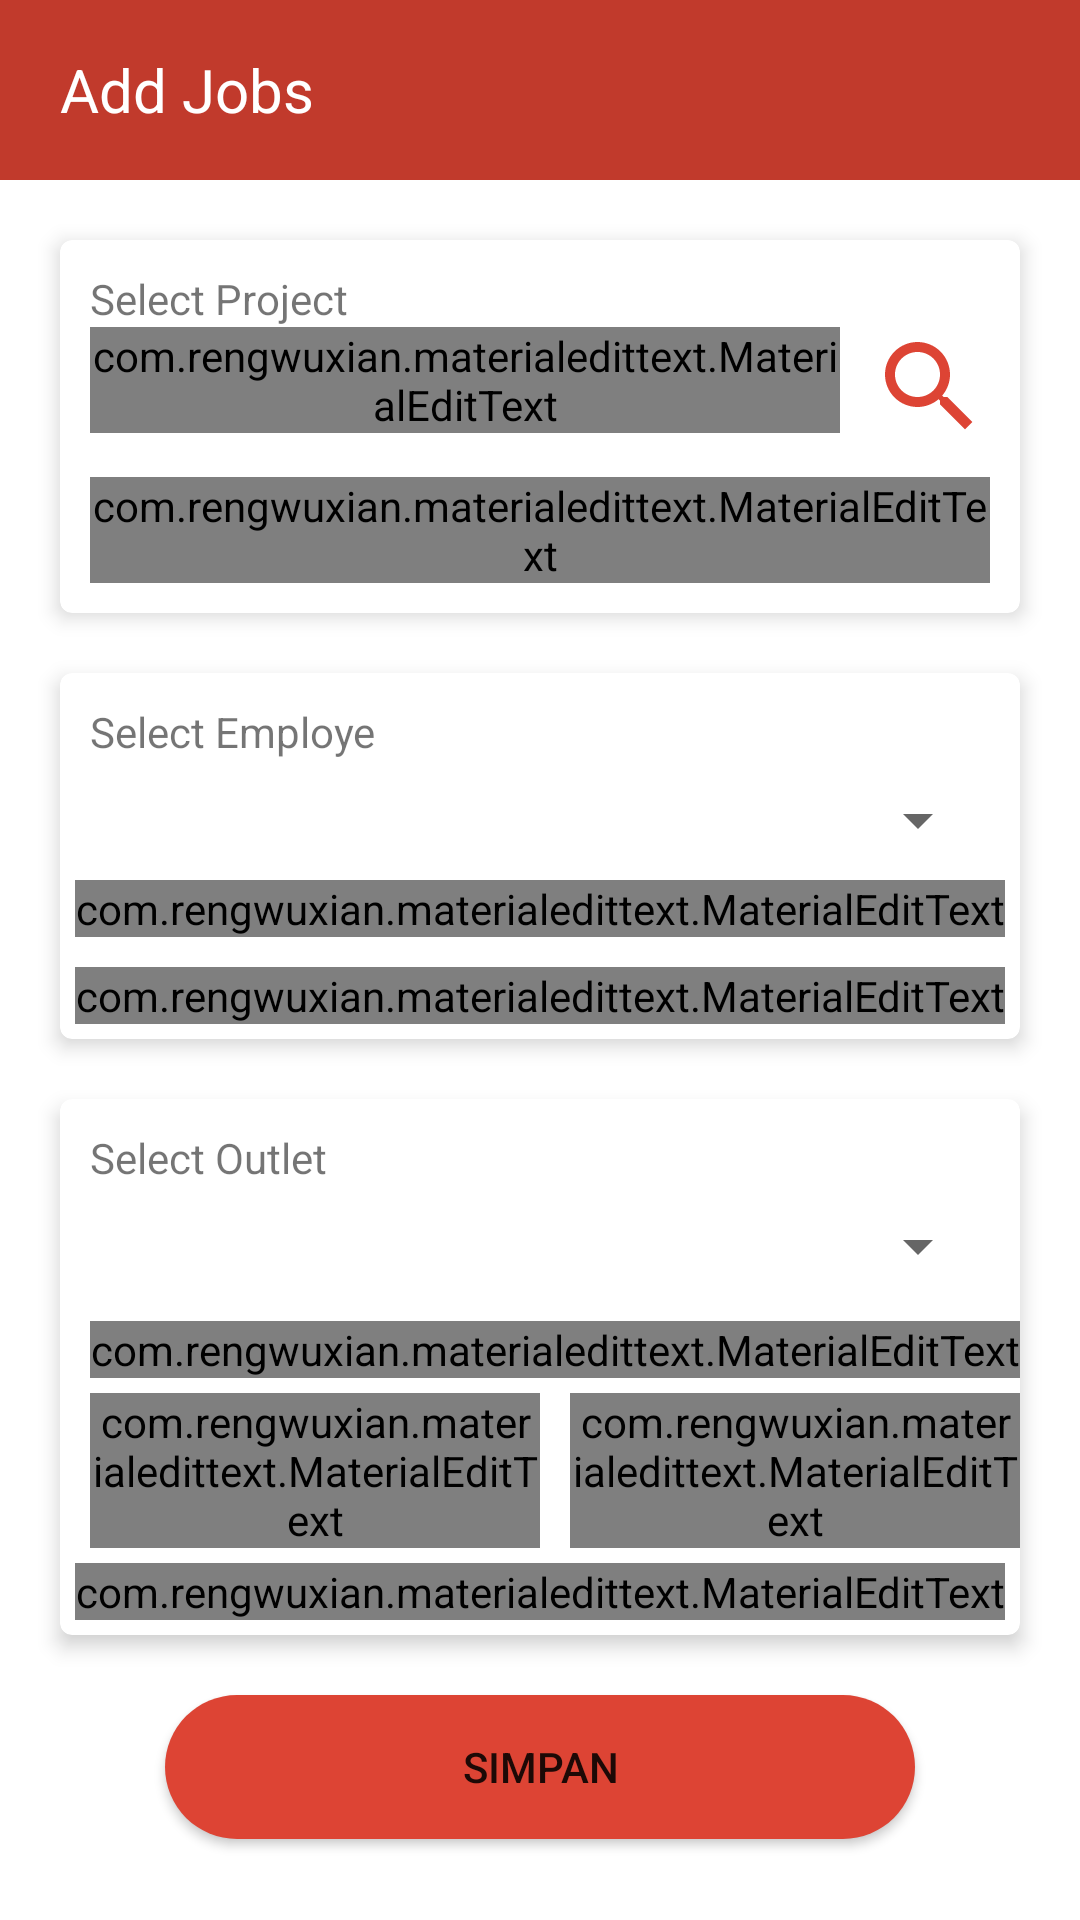

Icon click points for this 1080 × 1920 phone screenshot, format (x,y):
cari: (928,385)
